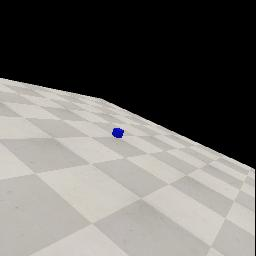box: (112, 128, 124, 138)
